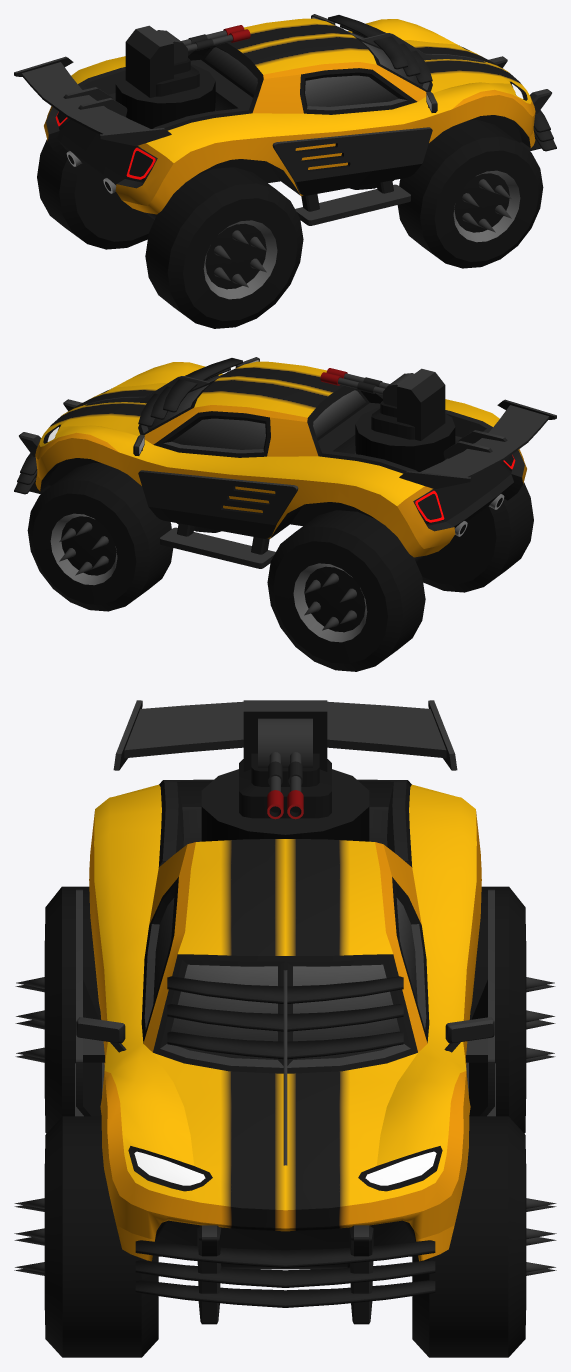
Rendered from Car_006.glb.
3 views of the same model, one above another, from view 1: azimuth 30°, elevation 25°; view 2: azimuth 150°, elevation 25°; view 3: azimuth 270°, elevation 25° (orthographic). The views are drawn at different scales.
Visible parts, largest first — view 1: Car_006, wheel_3_Car_006_Wheel_2R, wheel_1_Car_006_Wheel_1R, wheel_2_Car_006_Wheel_2L; view 2: Car_006, wheel_2_Car_006_Wheel_2L, wheel_0_Car_006_Wheel_1L, wheel_3_Car_006_Wheel_2R; view 3: Car_006, wheel_0_Car_006_Wheel_1L, wheel_1_Car_006_Wheel_1R, wheel_2_Car_006_Wheel_2L, wheel_3_Car_006_Wheel_2R.
Boxes of the visible parts, x1,y1,x2,y2 form: Car_006: (14, 14, 556, 225); wheel_3_Car_006_Wheel_2R: (145, 167, 303, 328); wheel_1_Car_006_Wheel_1R: (397, 119, 543, 268); wheel_2_Car_006_Wheel_2L: (37, 139, 154, 249); Car_006: (14, 357, 556, 568); wheel_2_Car_006_Wheel_2L: (267, 510, 425, 671); wheel_0_Car_006_Wheel_1L: (27, 462, 173, 611); wheel_3_Car_006_Wheel_2R: (416, 482, 533, 592); Car_006: (75, 700, 495, 1324); wheel_0_Car_006_Wheel_1L: (412, 1116, 556, 1357); wheel_1_Car_006_Wheel_1R: (14, 1116, 158, 1357); wheel_2_Car_006_Wheel_2L: (469, 886, 555, 1133); wheel_3_Car_006_Wheel_2R: (15, 886, 101, 1133).
Bounding box in the file's own units: 5.38 × 2.67 × 3.11.
2 materials, 2 textured.
